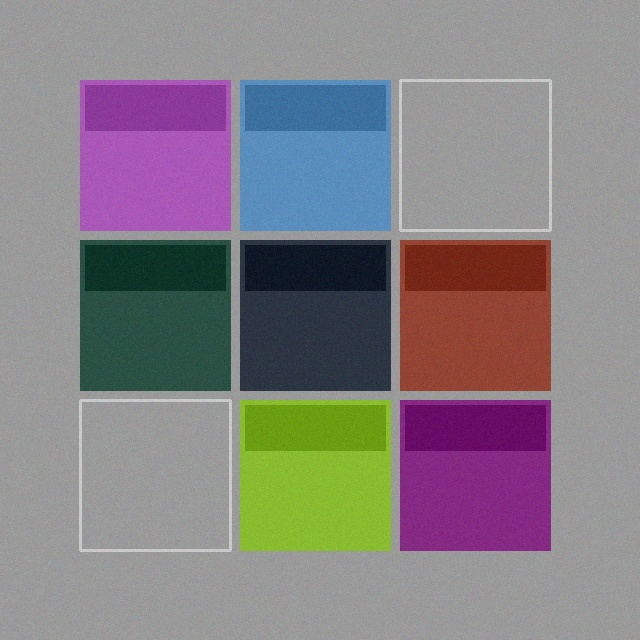space-empty: (400, 80, 550, 230), (80, 400, 230, 550)
space-occupied: (80, 80, 230, 230), (240, 80, 390, 230), (80, 240, 230, 390), (240, 240, 390, 390), (400, 240, 550, 390), (240, 400, 390, 550), (400, 400, 550, 550)
